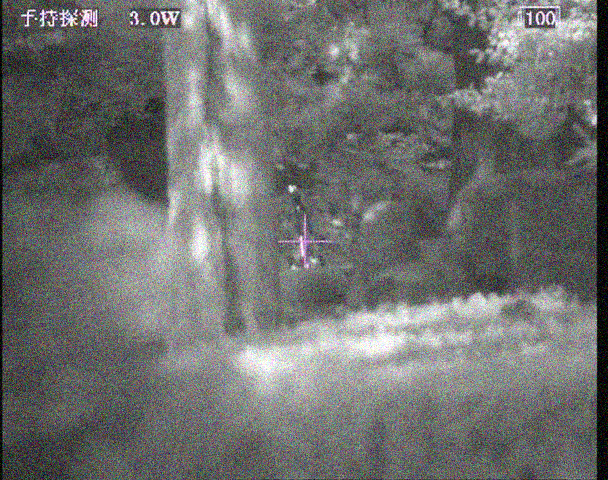my: (287, 184, 296, 193)
